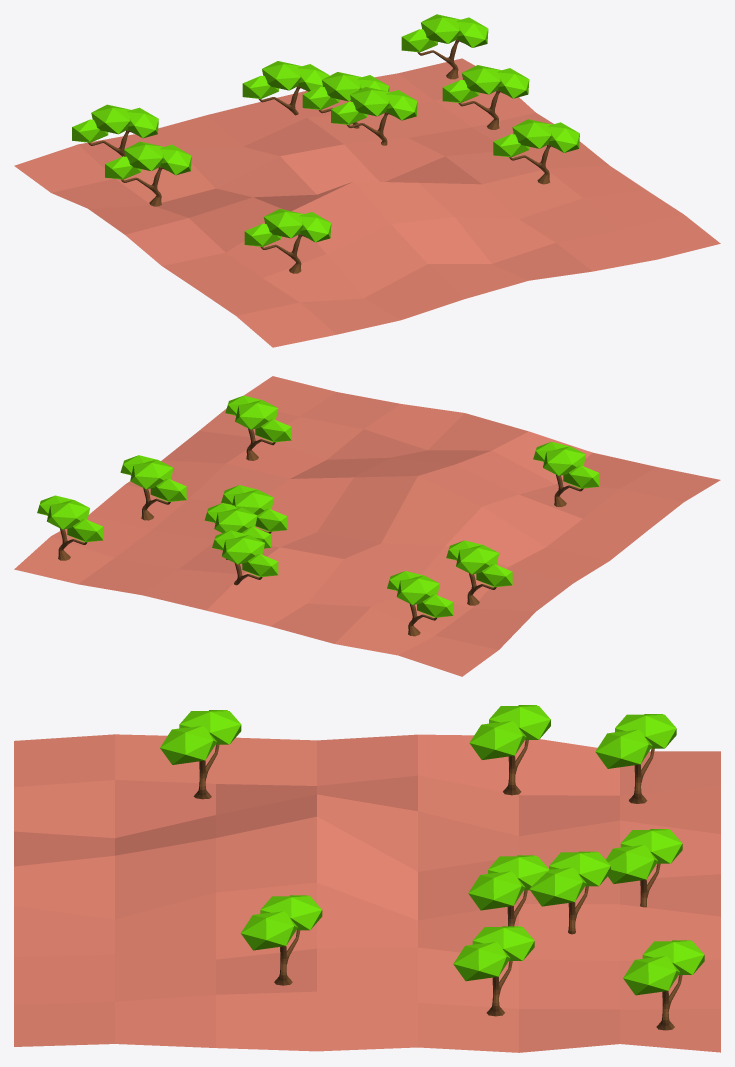
The model's file is mesh-env.gltf.
3 renders of one model, top to bottom at view 1: azimuth 30°, elevation 25°; view 2: azimuth 150°, elevation 25°; view 3: azimuth 270°, elevation 25°, orthographic. The views are drawn at different scales.
Visible parts, largest first — view 1: Plane, Vert.001, Vert.005, Vert.006, Vert.007, Vert.008, Vert.004, Vert, Vert.002, Vert.003; view 2: Plane, Vert, Vert.006, Vert.007, Vert.001, Vert.005, Vert.008, Vert.002, Vert.004, Vert.003; view 3: Plane, Vert.006, Vert.008, Vert, Vert.007, Vert.001, Vert.005, Vert.003, Vert.002, Vert.004.
Part boxes in pixels (x1,y1,x2,y2): Plane: [14, 58, 720, 347]; Vert.001: [105, 141, 191, 206]; Vert.005: [244, 209, 331, 273]; Vert.006: [493, 119, 579, 184]; Vert.007: [442, 65, 529, 129]; Vert.008: [401, 14, 488, 79]; Vert.004: [331, 87, 417, 145]; Vert: [72, 104, 158, 156]; Vert.002: [242, 61, 329, 115]; Vert.003: [302, 72, 389, 128]; Plane: [14, 376, 720, 676]; Vert: [387, 571, 453, 636]; Vert.006: [225, 395, 291, 460]; Vert.007: [120, 455, 186, 520]; Vert.001: [446, 540, 512, 605]; Vert.005: [533, 441, 599, 506]; Vert.008: [37, 495, 103, 560]; Vert.002: [212, 530, 278, 585]; Vert.004: [221, 485, 287, 533]; Vert.003: [204, 503, 270, 559]; Plane: [14, 734, 720, 1052]; Vert.006: [241, 895, 322, 985]; Vert.008: [623, 940, 704, 1030]; Vert: [595, 714, 676, 803]; Vert.007: [453, 926, 534, 1016]; Vert.001: [469, 705, 550, 795]; Vert.005: [160, 710, 241, 799]; Vert.003: [529, 851, 610, 934]; Vert.002: [606, 829, 682, 907]; Vert.004: [468, 855, 549, 926].
Size of the model in its own units: 17.28 by 2.66 by 17.28.
